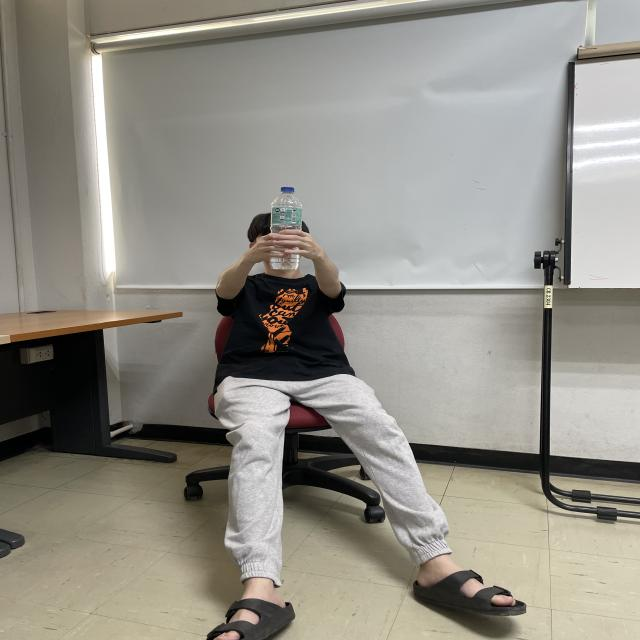bottle: (267, 187, 304, 269)
